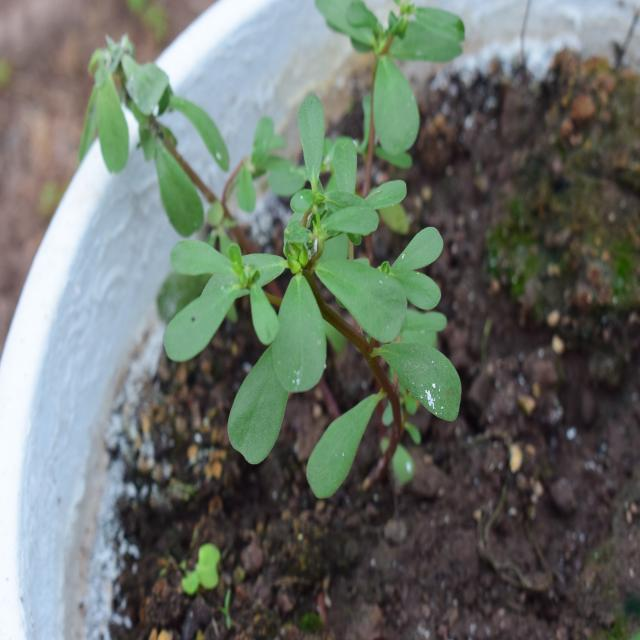purslane: (163, 139, 476, 483), (46, 8, 288, 260)
